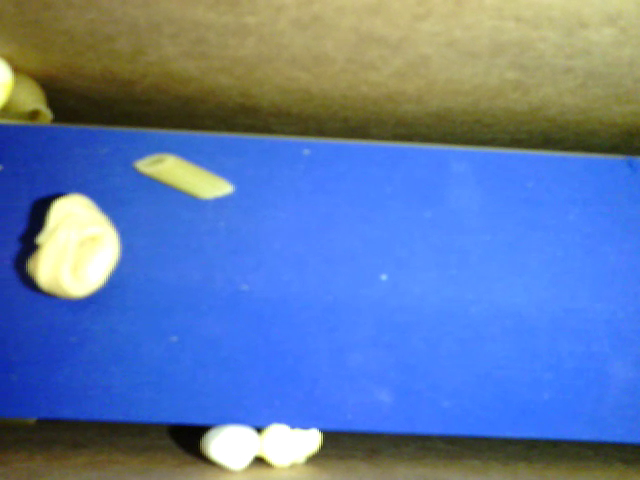penne: (130, 154, 237, 203)
shell: (1, 73, 54, 130)
tortellini: (23, 190, 123, 303)
